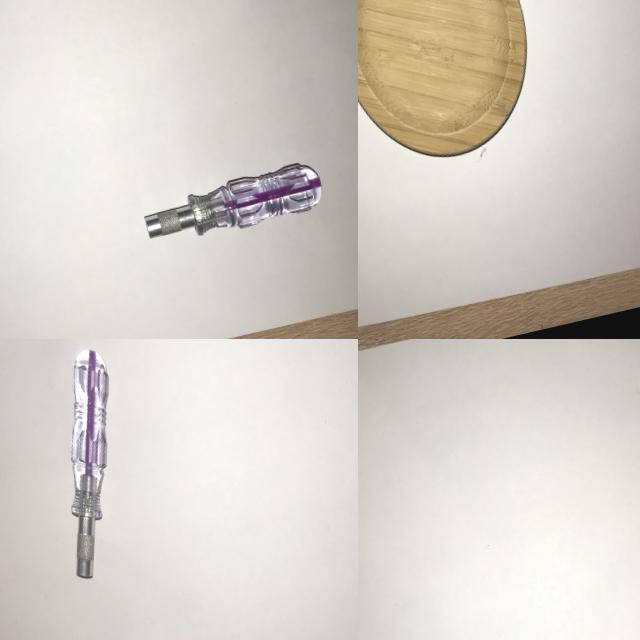cup_holder: (358, 0, 558, 187)
screwdriver: (18, 339, 160, 593), (134, 153, 336, 259)
